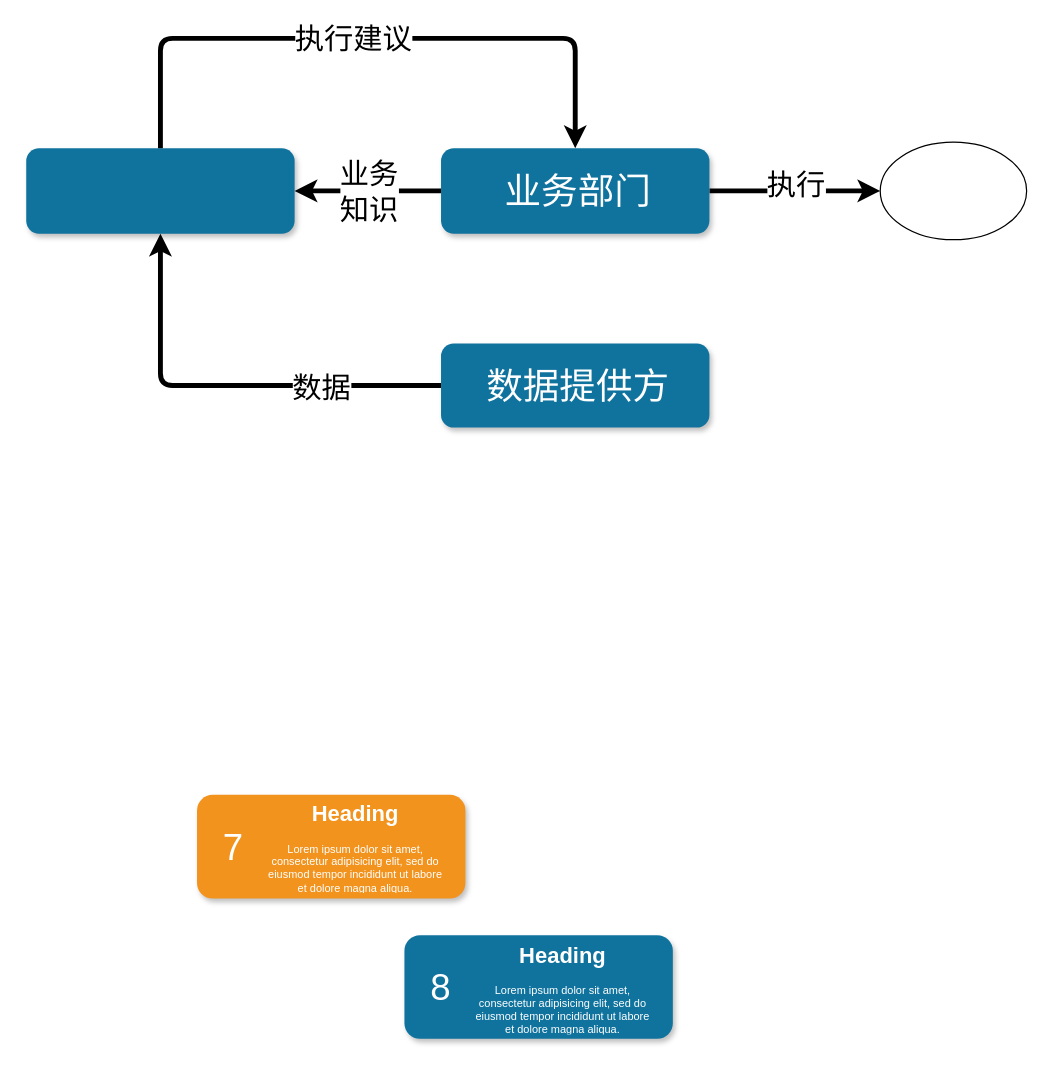
Some shapes in this 1048 by 1068 pixel diagram are drawn without their labels. The centre of each missing label's shape, as x and y in pixels:
"分析处理方" belongs at (x=161, y=192).
"场景" belongs at (x=953, y=190).
